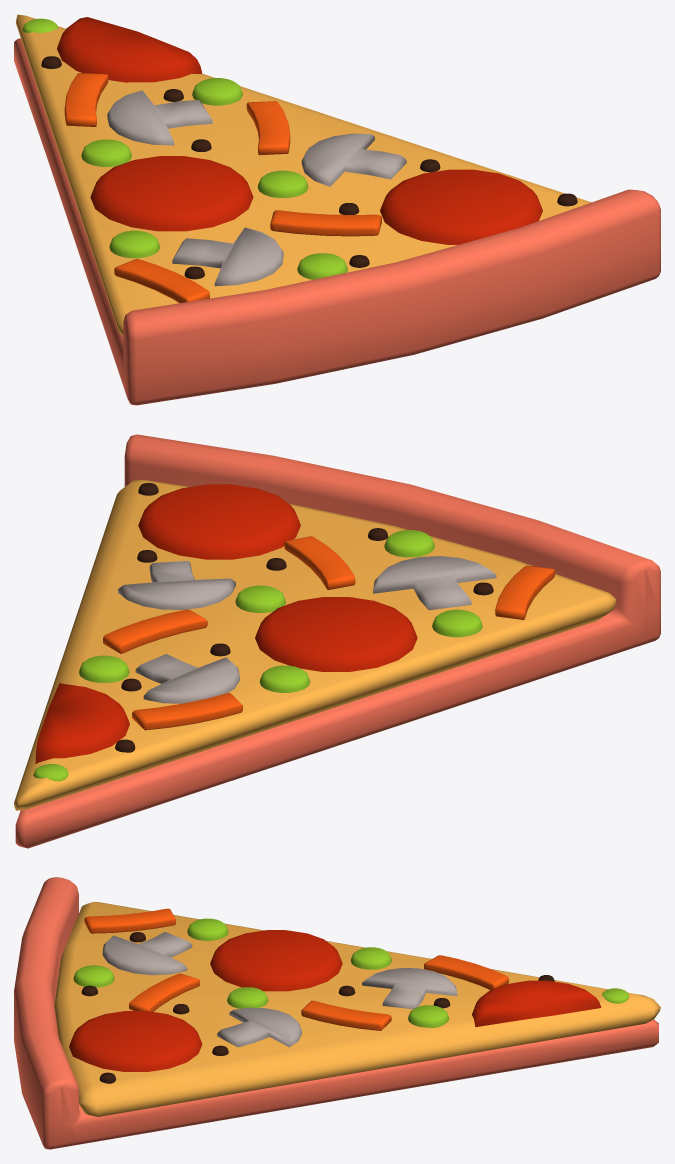
File: pizza.fbx
3 views of the same model, one above another, from view 1: azimuth 30°, elevation 25°; view 2: azimuth 150°, elevation 25°; view 3: azimuth 270°, elevation 25° (orthographic). The views are drawn at different scales.
Parts seen in each view (by area): view 1: pizza; view 2: pizza; view 3: pizza.
Part boxes in pixels (x1,y1,x2,y2): pizza: (14, 14, 660, 405); pizza: (14, 434, 660, 848); pizza: (14, 877, 660, 1149).
Bounding box in the file's own units: 3.03 × 0.4612 × 3.94.
